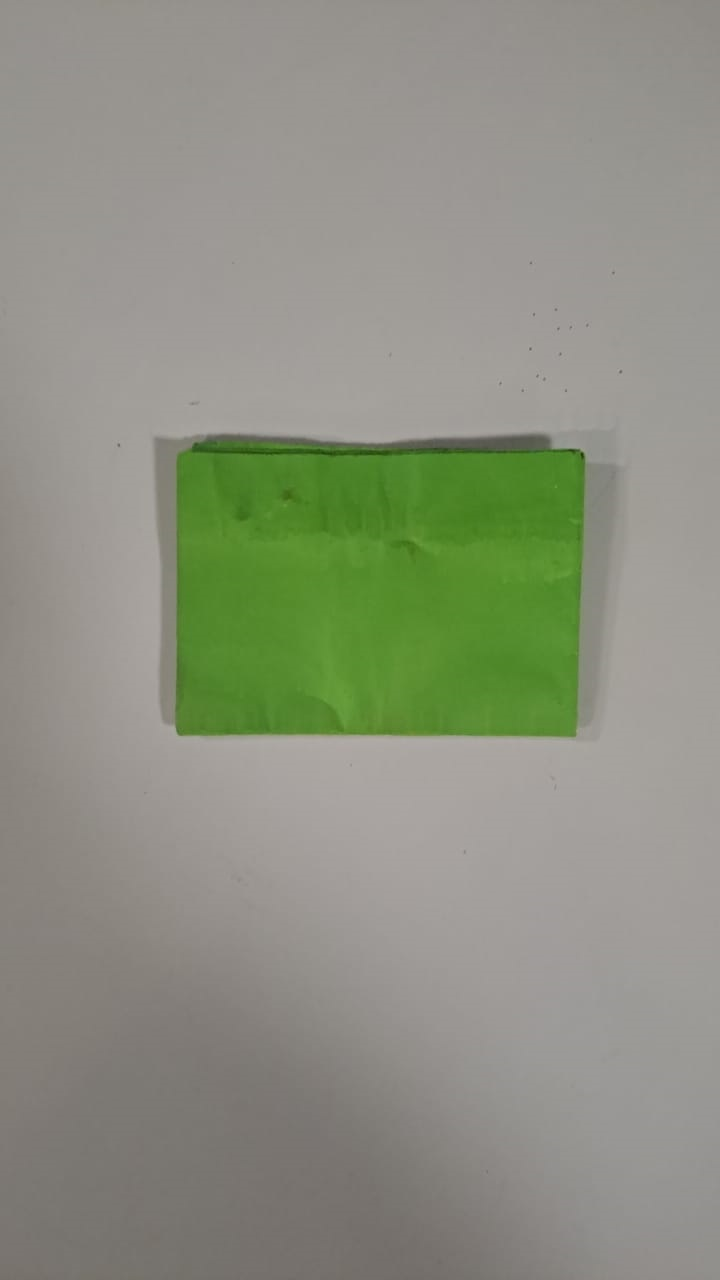Target: (173, 441, 578, 740)
